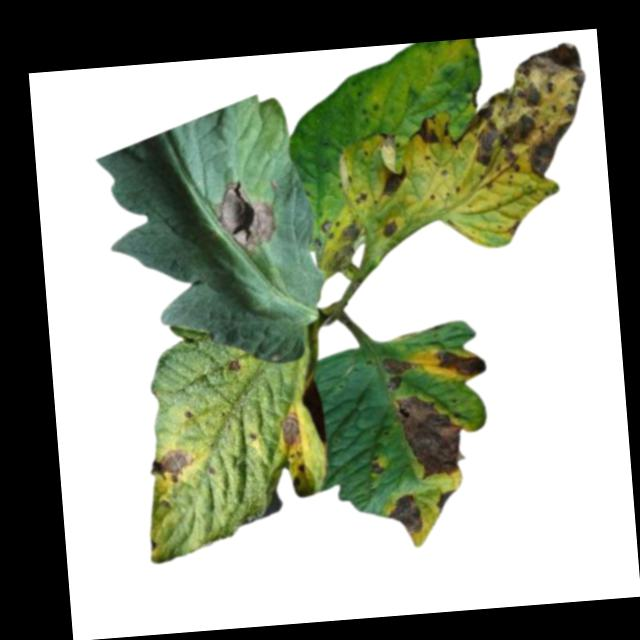Early_blight: (434, 37, 593, 187), (394, 390, 466, 482), (211, 173, 282, 257), (320, 214, 367, 273), (434, 342, 490, 380), (149, 445, 199, 485), (384, 488, 423, 539), (382, 355, 414, 394), (380, 163, 411, 201), (279, 408, 305, 452), (410, 114, 439, 150), (434, 487, 461, 512), (290, 462, 310, 487), (377, 128, 398, 151), (380, 215, 399, 239), (369, 453, 388, 475), (353, 187, 371, 204), (227, 356, 244, 373)
